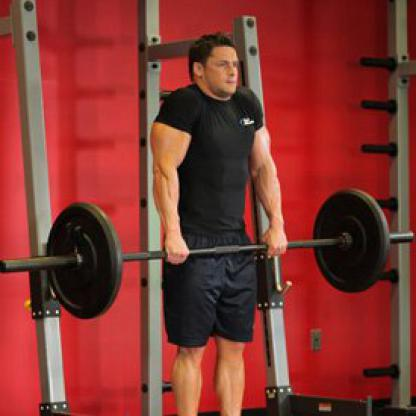Barbell: (42, 198, 124, 324), (309, 182, 393, 295)
